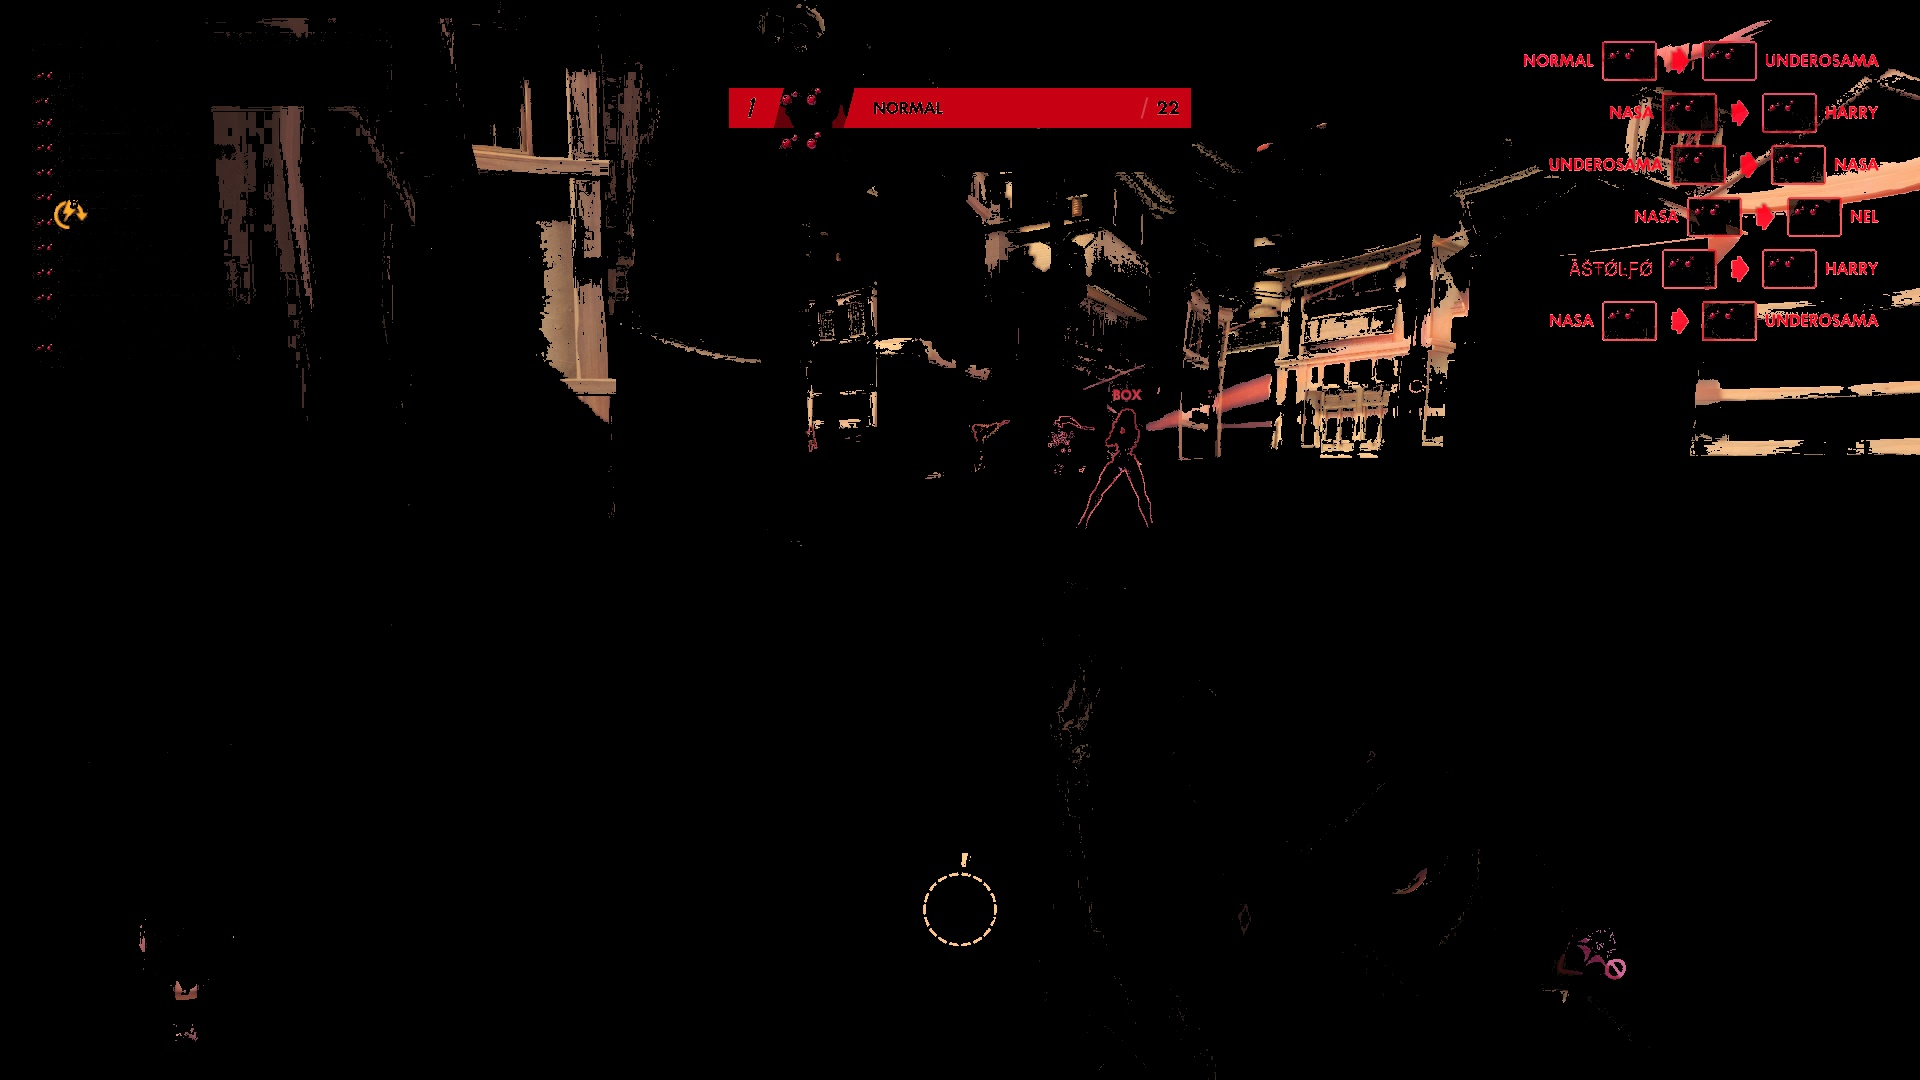widowmaker: (1083, 411, 1166, 539), (969, 418, 1014, 465), (803, 423, 823, 455)
